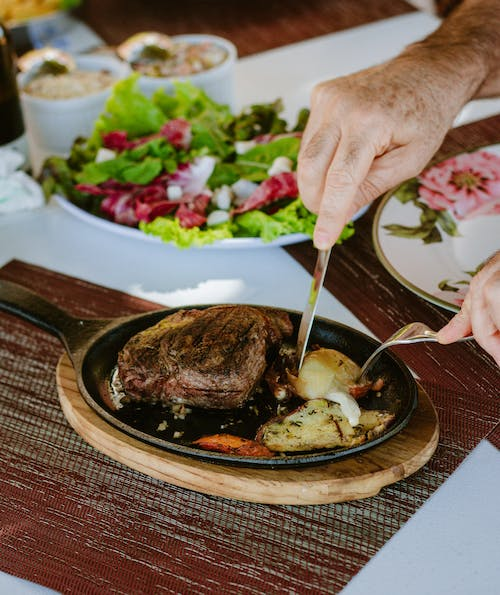knife: (290, 245, 332, 373)
